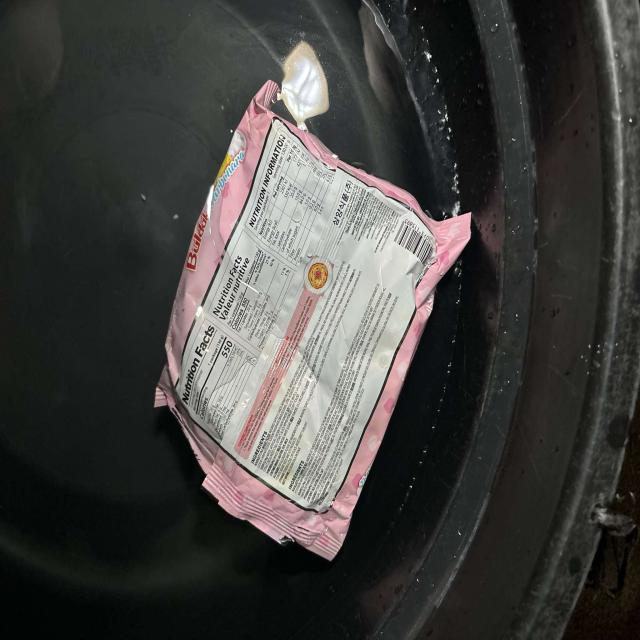Plastic Wrapper: (156, 81, 471, 559)
